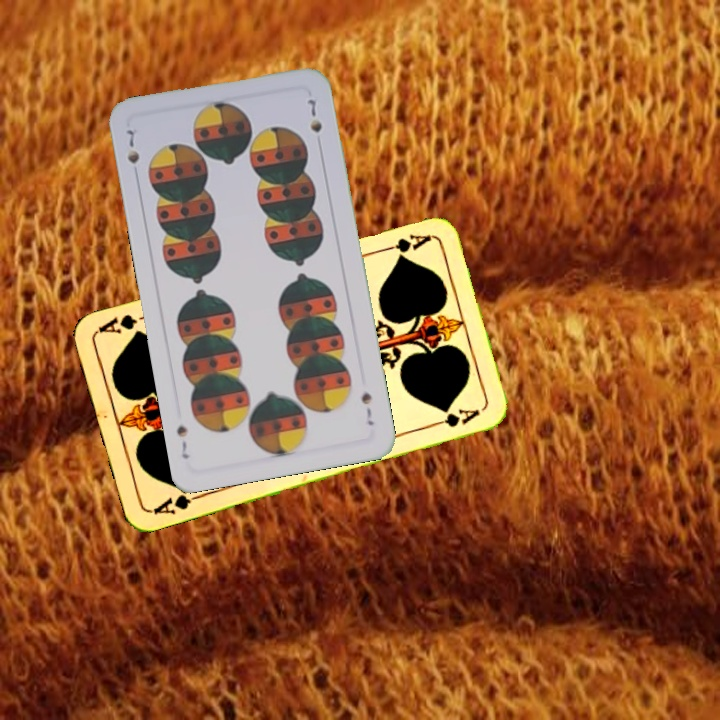GA: (149, 484, 206, 518), (375, 230, 433, 257)
S7: (122, 123, 142, 167), (357, 388, 377, 428)
